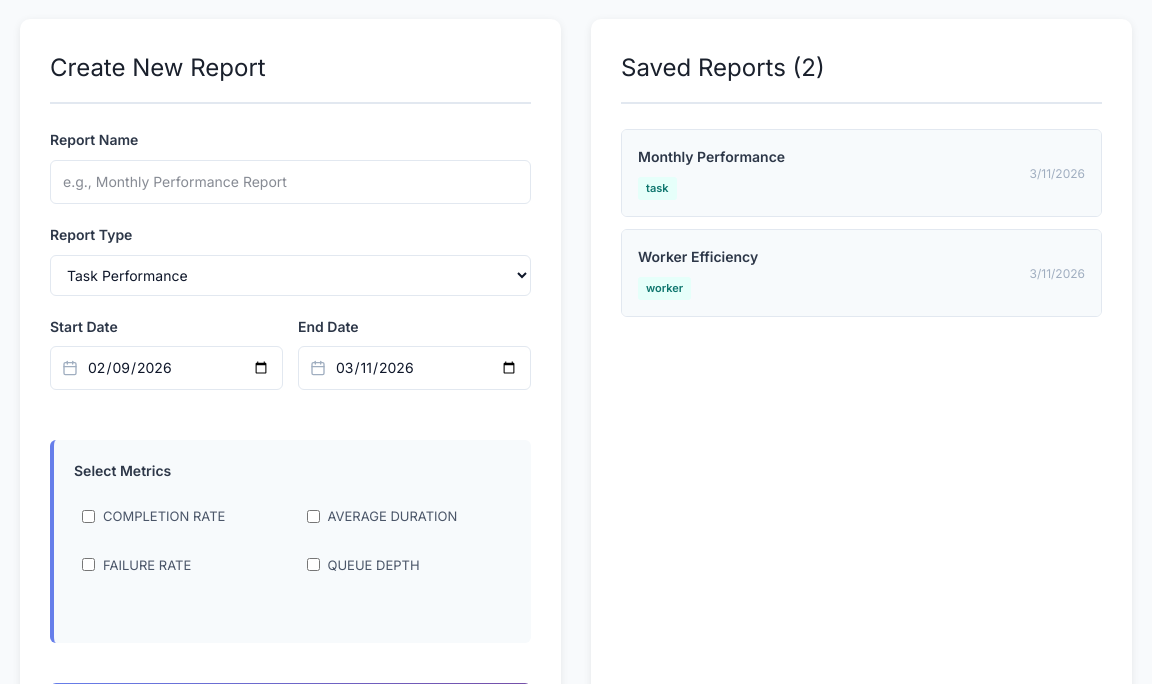
Test case: ReportBuilder › should disable form during generation
Type "Test Report" into the field labelled "Report Name" at (290, 182), box [50,160,531,204]
(page scrolled)
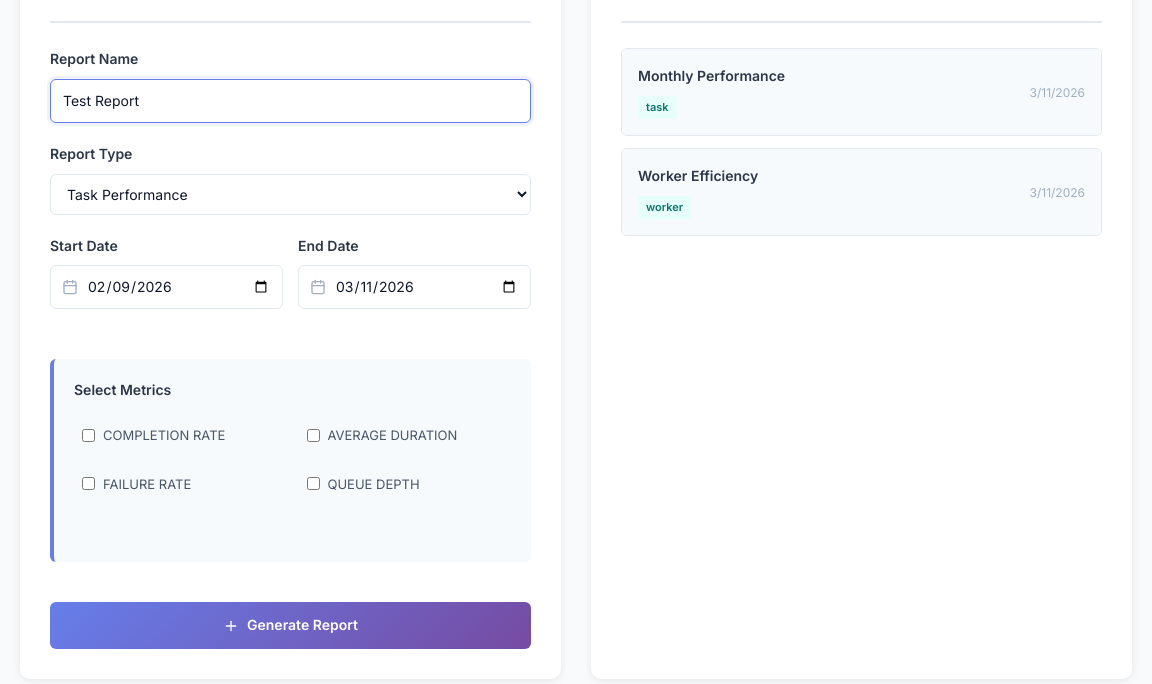
Click the button "Generate Report" at (290, 626), box [50,602,531,649]
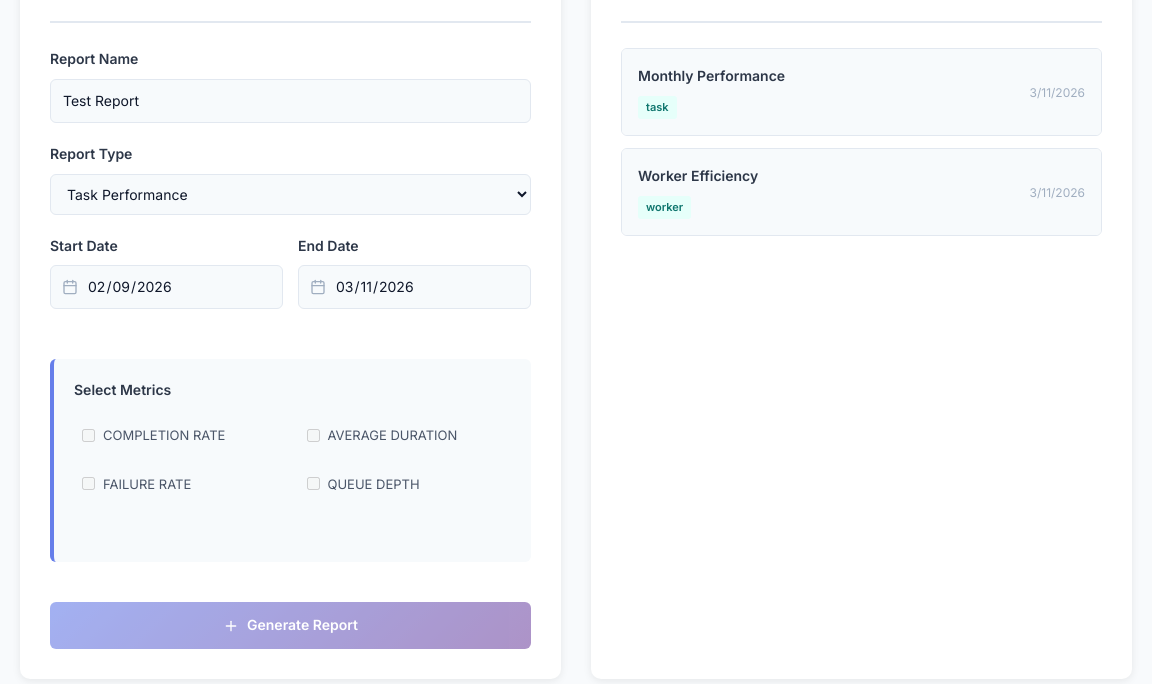
expect the field labelled "Report Name" is disabled: met, box [50,79,531,123]
expect the button "Generate Report" is disabled: met, box [50,602,531,649]
